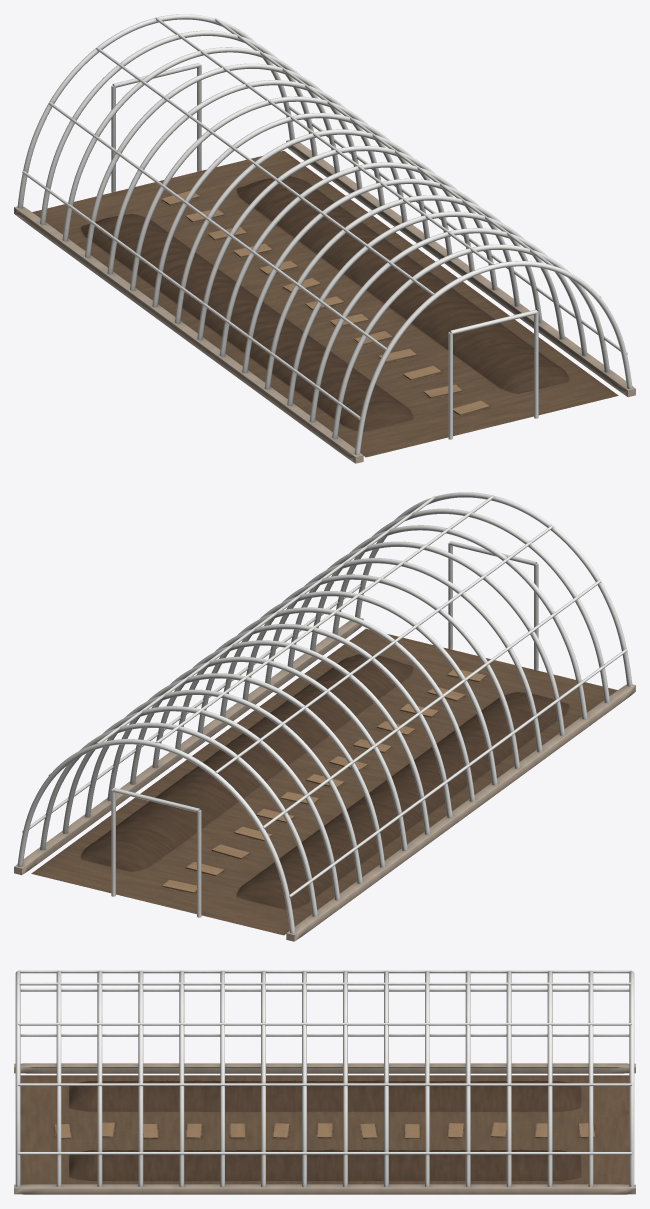
The model's file is SK_Greenhouse.fbx.
3 views of the same model, one above another, from view 1: azimuth 30°, elevation 25°; view 2: azimuth 150°, elevation 25°; view 3: azimuth 270°, elevation 25° (orthographic). The views are drawn at different scales.
Parts seen in each view (by area): view 1: SK_Greenhouse; view 2: SK_Greenhouse; view 3: SK_Greenhouse.
Part boxes in pixels (x1,y1,x2,y2): SK_Greenhouse: (14, 14, 635, 463); SK_Greenhouse: (14, 492, 635, 941); SK_Greenhouse: (14, 970, 635, 1194).
Bounding box in the file's own units: 1445 × 807 × 3040.
